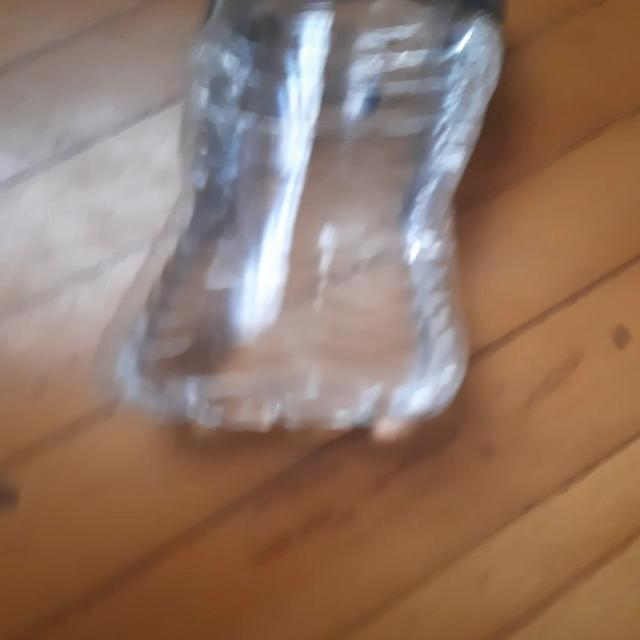Plastic: (102, 0, 508, 446)
